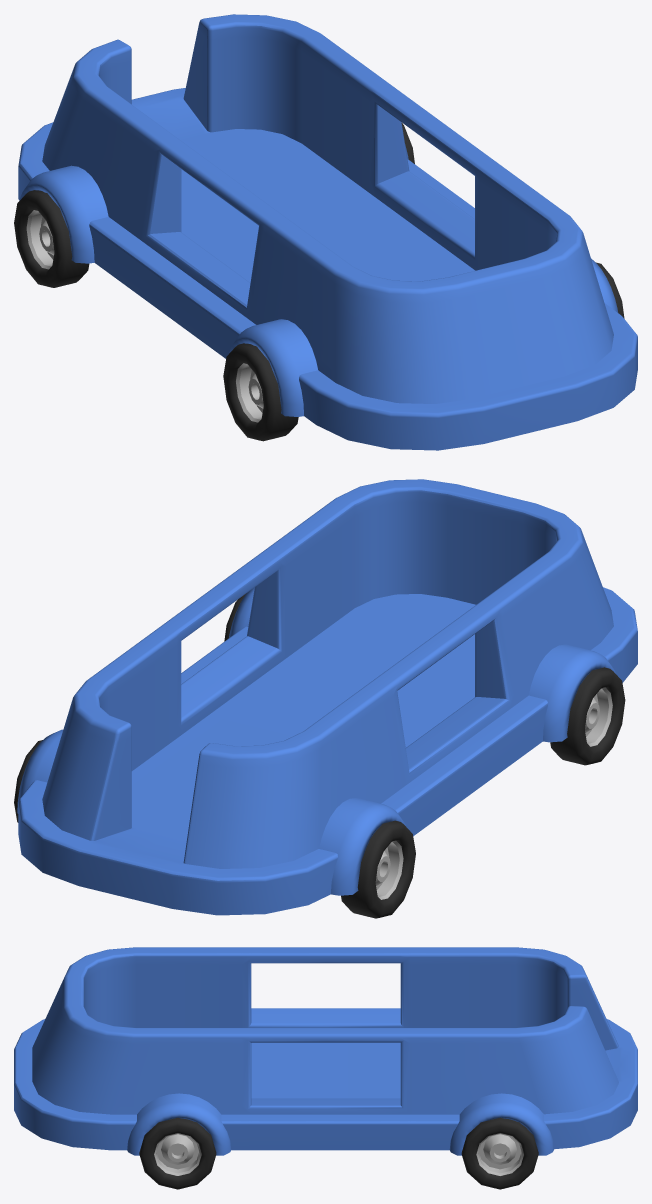
File: Car.fbx
3 renders of one model, top to bottom at view 1: azimuth 30°, elevation 25°; view 2: azimuth 150°, elevation 25°; view 3: azimuth 270°, elevation 25°, orthographic. The views are drawn at different scales.
Visible parts, largest first — view 1: Sm_Car; view 2: Sm_Car; view 3: Sm_Car.
Boxes of the visible parts, box(x1,y1,x2,y2) form: Sm_Car: box(14, 14, 637, 450); Sm_Car: box(14, 479, 637, 918); Sm_Car: box(14, 947, 637, 1189).
Bounding box in the file's own units: 448 × 209 × 882.
